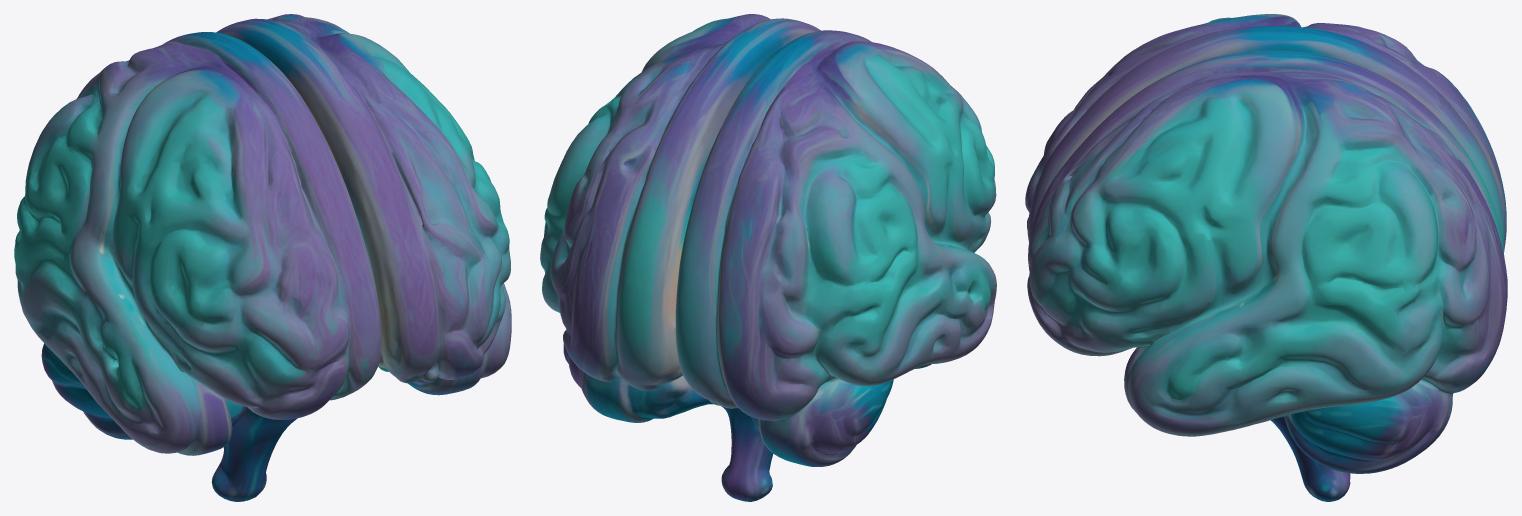
File: brain.glb
3 views of the same model, side by side, from view 1: azimuth 30°, elevation 25°; view 2: azimuth 150°, elevation 25°; view 3: azimuth 270°, elevation 25° (orthographic). The views are drawn at different scales.
Parts seen in each view (by area): view 1: tripo_node_35f82d64-6390-4dd9-aa36-61e833698948; view 2: tripo_node_35f82d64-6390-4dd9-aa36-61e833698948; view 3: tripo_node_35f82d64-6390-4dd9-aa36-61e833698948.
Part boxes in pixels (x1=…): tripo_node_35f82d64-6390-4dd9-aa36-61e833698948: x1=14, y1=14, x2=511, y2=501; tripo_node_35f82d64-6390-4dd9-aa36-61e833698948: x1=540, y1=14, x2=996, y2=501; tripo_node_35f82d64-6390-4dd9-aa36-61e833698948: x1=1025, y1=14, x2=1507, y2=501.
Bounding box in the file's own units: 0.7966 × 0.9486 × 0.9078.
Materials: 1 (1 with a texture image).
